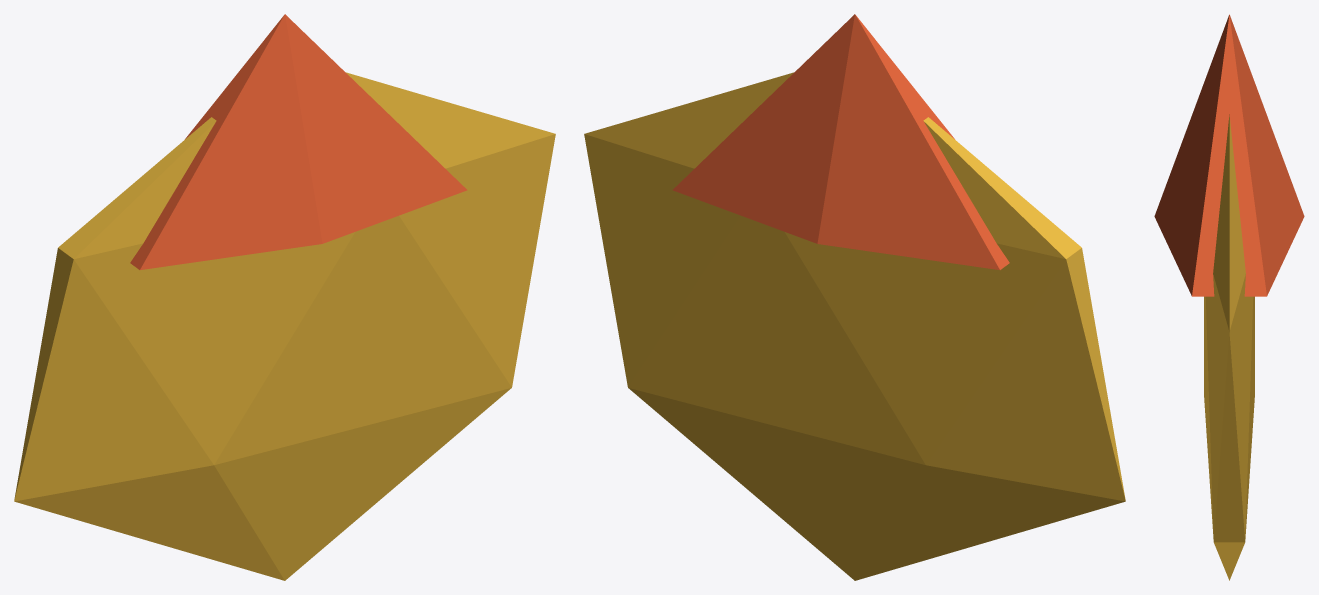
The model's file is reliquia_escama.glb.
3 views of the same model, side by side, from view 1: azimuth 30°, elevation 25°; view 2: azimuth 150°, elevation 25°; view 3: azimuth 270°, elevation 25° (orthographic).
Visible parts, largest first — view 1: reliquia_escama; view 2: reliquia_escama; view 3: reliquia_escama.
Part boxes in pixels (left/top/right/bottom): reliquia_escama: left=14, top=14, right=555, bottom=580; reliquia_escama: left=584, top=14, right=1125, bottom=580; reliquia_escama: left=1154, top=14, right=1304, bottom=580.
Bounding box in the file's own units: 2.5 × 2.5 × 0.6.
